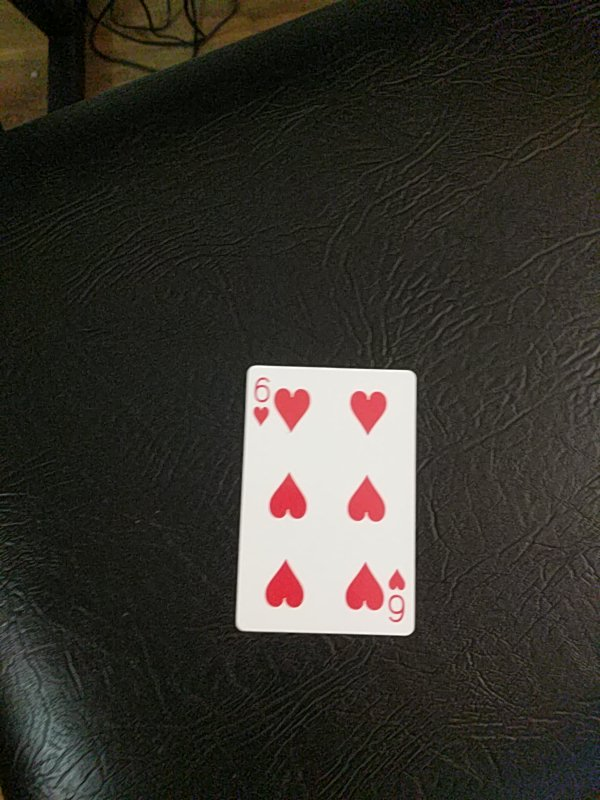Hearts: (236, 363, 420, 636)
